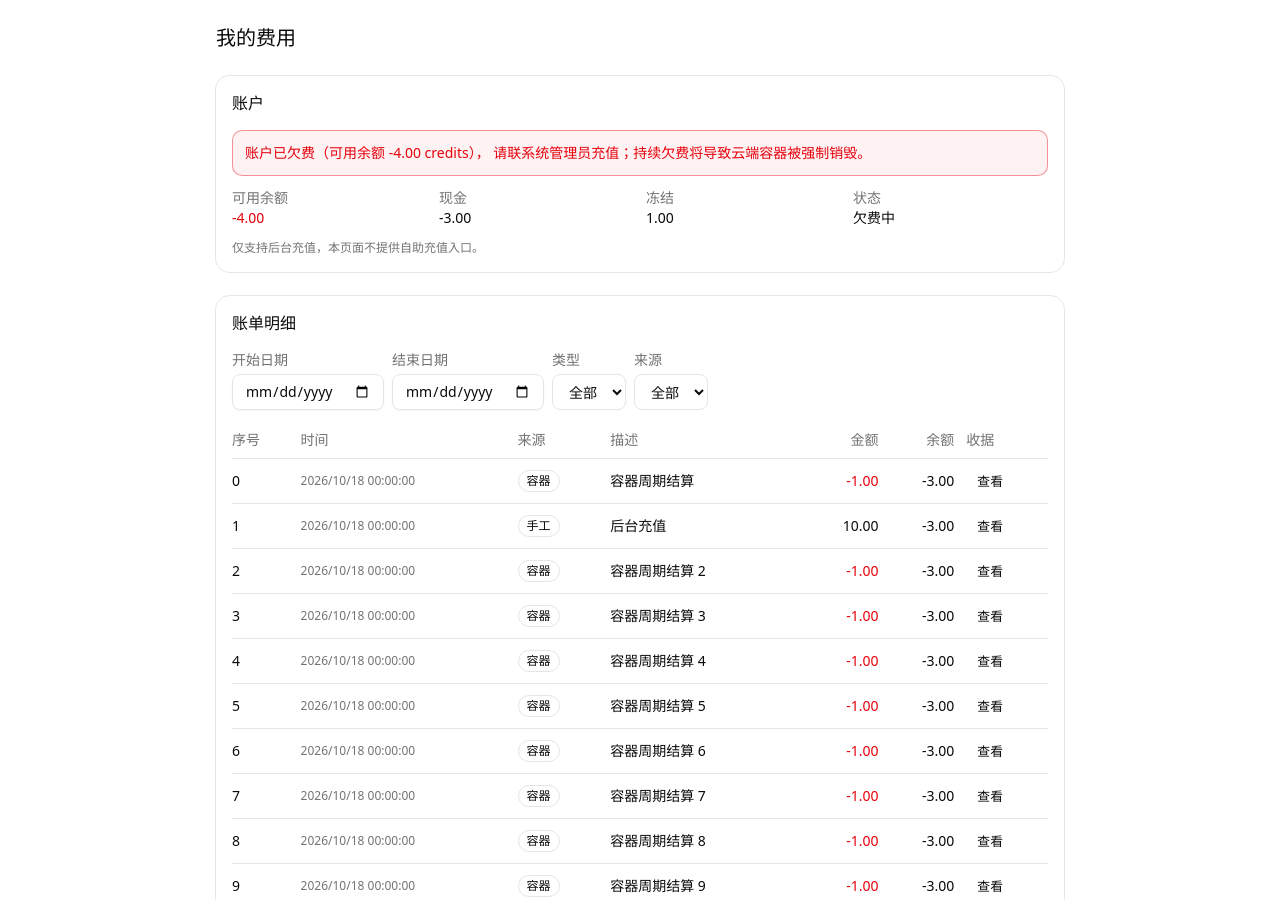
Test: 前台我的费用 › R10-5: 充值账单（recharge）同样可查看收据
Check: the text "后台充值" is shown, box [610,504,808,548]
Note: 第一页第二个「查看」对应 receiptId 非空的充值账单。
Click the button "查看" in the row of "手工" at (990, 526), box [966,512,1014,540]
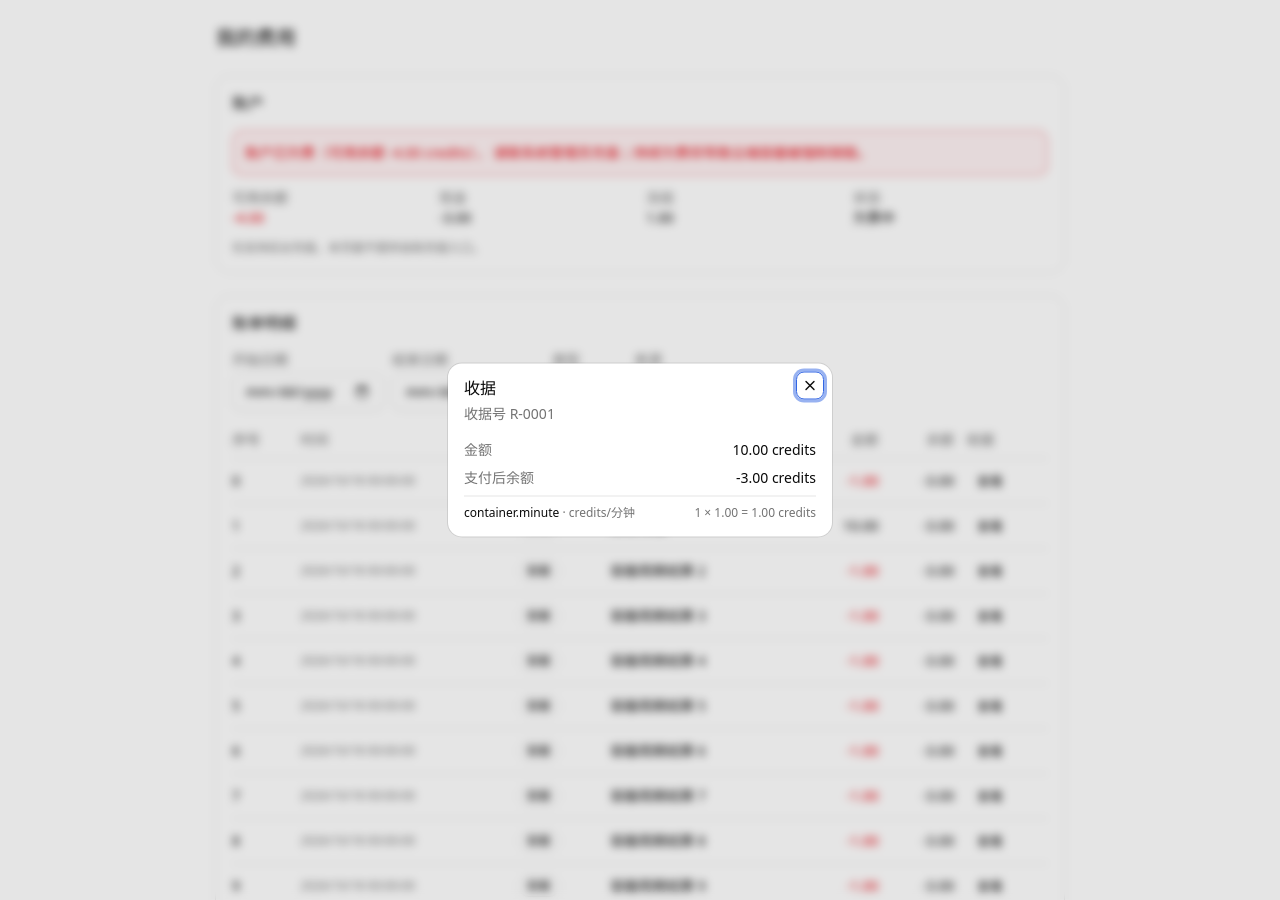
Check: the text "收据号 R-0001" is shown, box [464,404,555,422]
